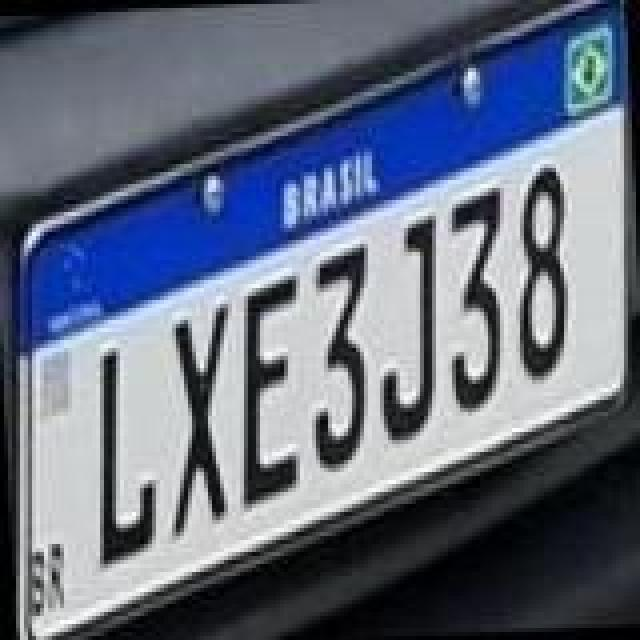3: (302, 244, 378, 476), (440, 184, 512, 416)
8: (512, 162, 576, 382)
E: (232, 274, 312, 510)
J: (370, 212, 446, 444)
L: (88, 344, 160, 568)
X: (158, 300, 242, 540)
